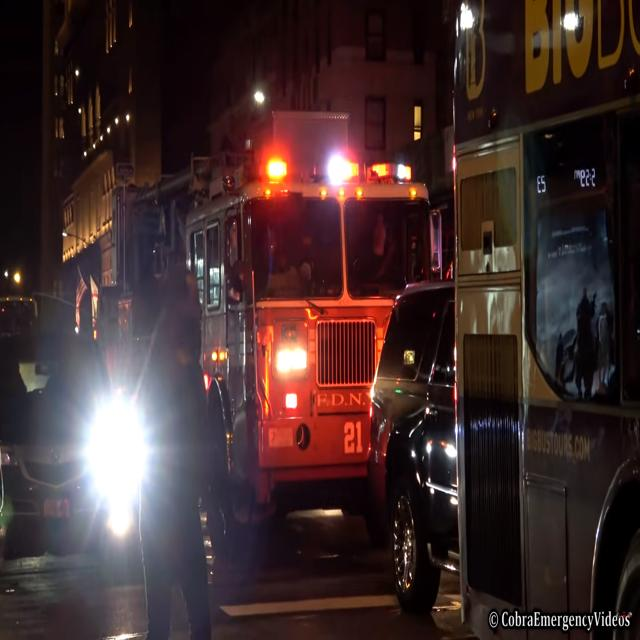emergency-vehicles: (40, 100, 445, 521)
